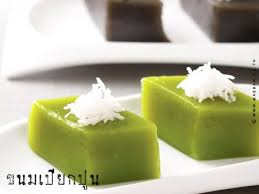kanompiakpoon: (25, 83, 168, 191), (139, 62, 259, 168)
